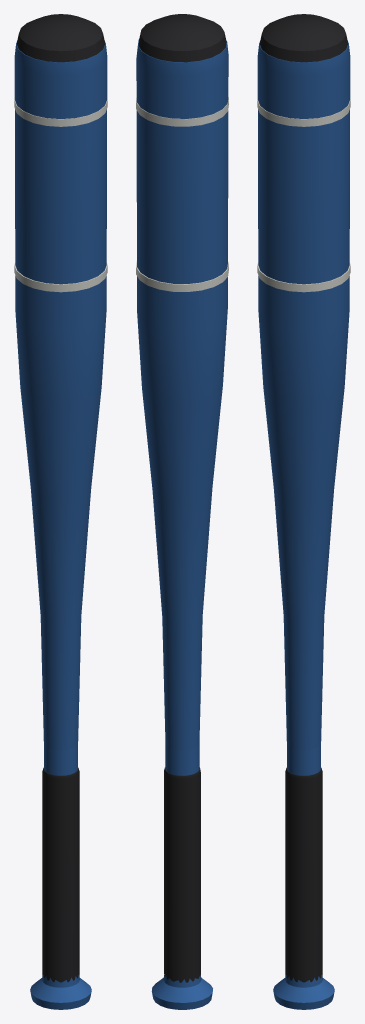
Rendered from wpn_melee_aluminium_bat.glb.
3 renders of one model, left to right at view 1: azimuth 90°, elevation 25°; view 2: azimuth 150°, elevation 25°; view 3: azimuth 270°, elevation 25°, orthographic.
Parts seen in each view (by area): view 1: Head, Grip, Handle; view 2: Head, Grip, Handle; view 3: Head, Grip, Handle.
Boxes of the visible parts, bbox=[...] form: Head: bbox=[14, 14, 107, 750]; Grip: bbox=[42, 767, 79, 982]; Handle: bbox=[30, 744, 91, 1009]; Head: bbox=[136, 14, 228, 750]; Grip: bbox=[164, 767, 200, 982]; Handle: bbox=[151, 743, 212, 1009]; Head: bbox=[257, 14, 350, 750]; Grip: bbox=[285, 767, 322, 982]; Handle: bbox=[273, 744, 334, 1009].
Size of the model in its own units: 0.0666 by 0.77 by 0.0666.
